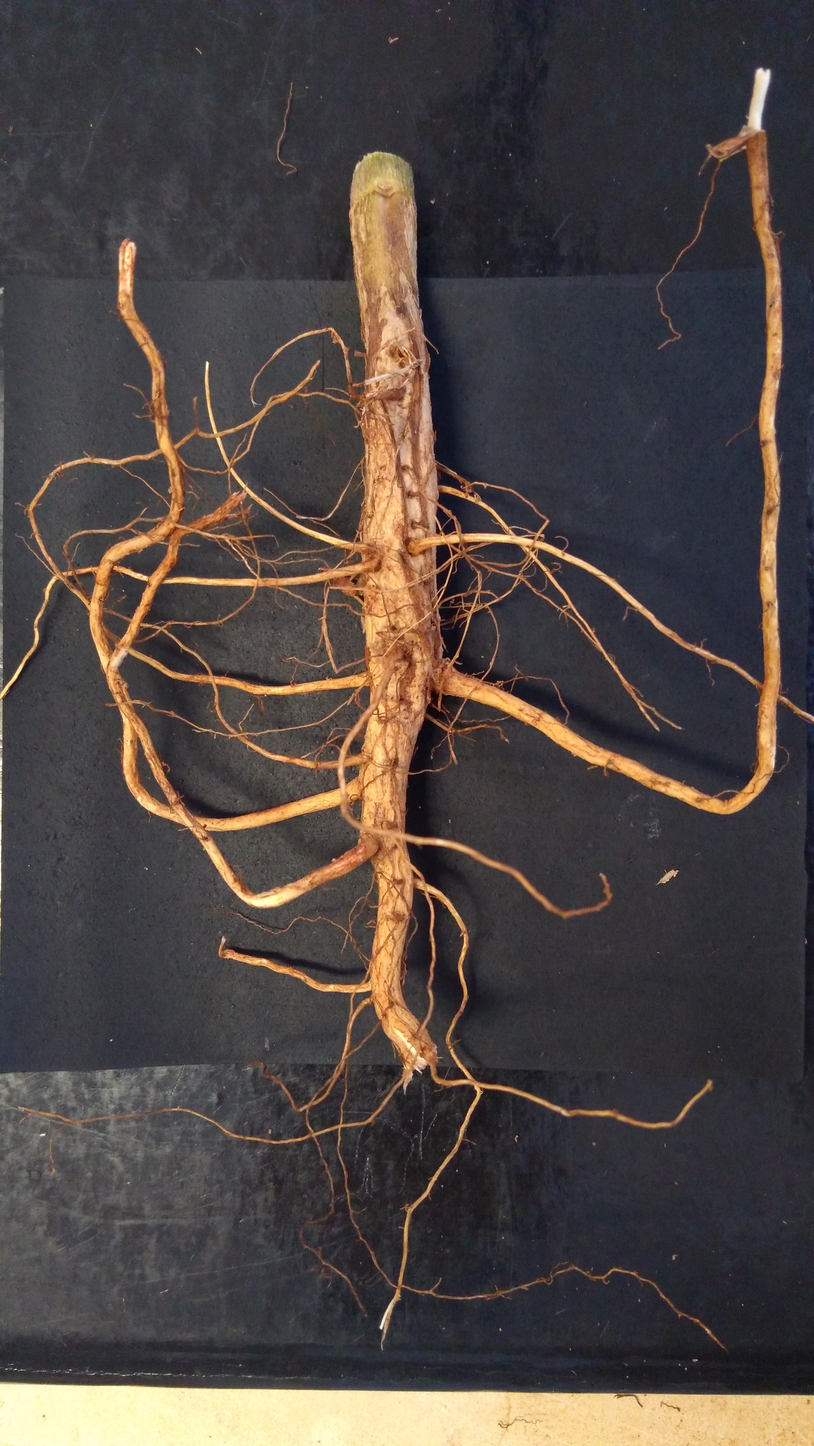nodule: (376, 345, 416, 378), (402, 632, 434, 663), (331, 575, 357, 597), (354, 573, 365, 597), (168, 486, 172, 494), (331, 857, 336, 863)
